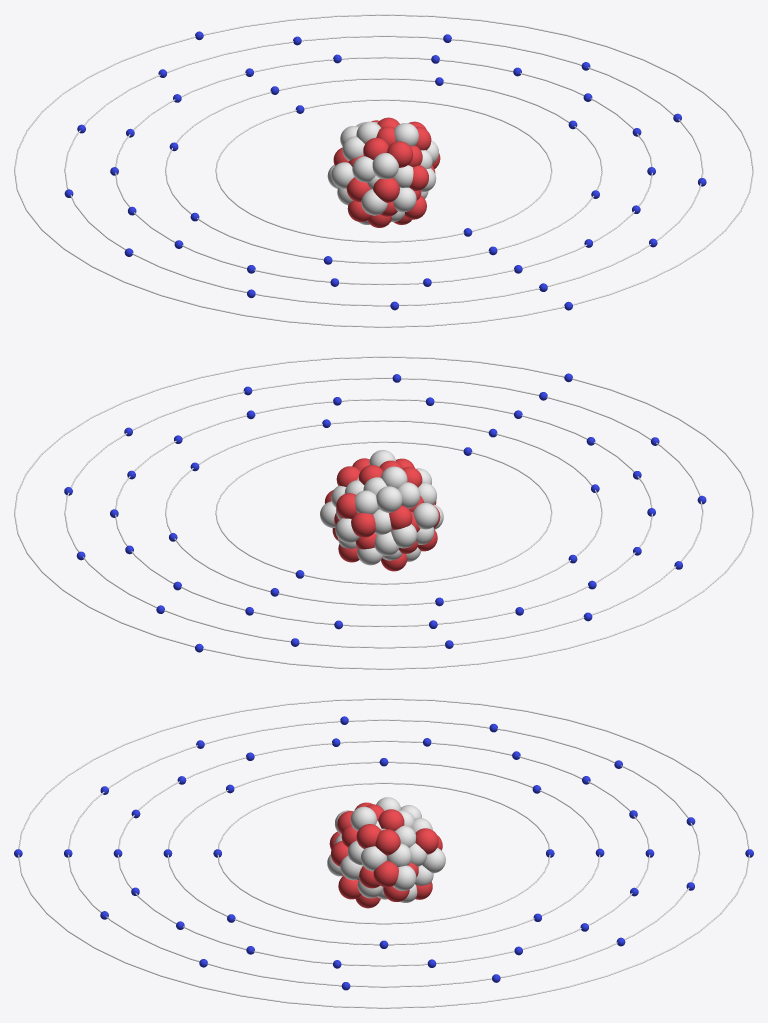
Rendered from Technetium.glb.
3 views of the same model, one above another, from view 1: azimuth 30°, elevation 25°; view 2: azimuth 150°, elevation 25°; view 3: azimuth 270°, elevation 25° (orthographic).
Parts seen in each view (by area): view 1: O-Schale, N-Schale, M-Schale, L-Schale, K-Schale, Neutron 45; view 2: O-Schale, N-Schale, M-Schale, L-Schale, K-Schale, Neutron 53, Neutron 44, Proton 40; view 3: O-Schale, N-Schale, M-Schale, L-Schale, K-Schale, Proton 38.
Part boxes in pixels (box(x1,y1,x2,y2)): O-Schale: box(14, 14, 753, 327); N-Schale: box(64, 35, 703, 306); M-Schale: box(115, 56, 652, 285); L-Schale: box(165, 78, 602, 263); K-Schale: box(215, 99, 552, 242); Neutron 45: box(372, 153, 398, 179); O-Schale: box(14, 356, 753, 669); N-Schale: box(64, 377, 703, 648); M-Schale: box(115, 398, 652, 627); L-Schale: box(165, 420, 602, 605); K-Schale: box(215, 441, 552, 584); Neutron 53: box(376, 486, 402, 512); Neutron 44: box(413, 502, 438, 529); Proton 40: box(351, 513, 375, 537); O-Schale: box(18, 698, 749, 1008); N-Schale: box(68, 719, 700, 987); M-Schale: box(117, 740, 650, 966); L-Schale: box(167, 761, 600, 945); K-Schale: box(217, 782, 550, 924); Proton 38: box(373, 861, 398, 887).
Bounding box in the file's own units: 22.04 × 3.35 × 22.26.
